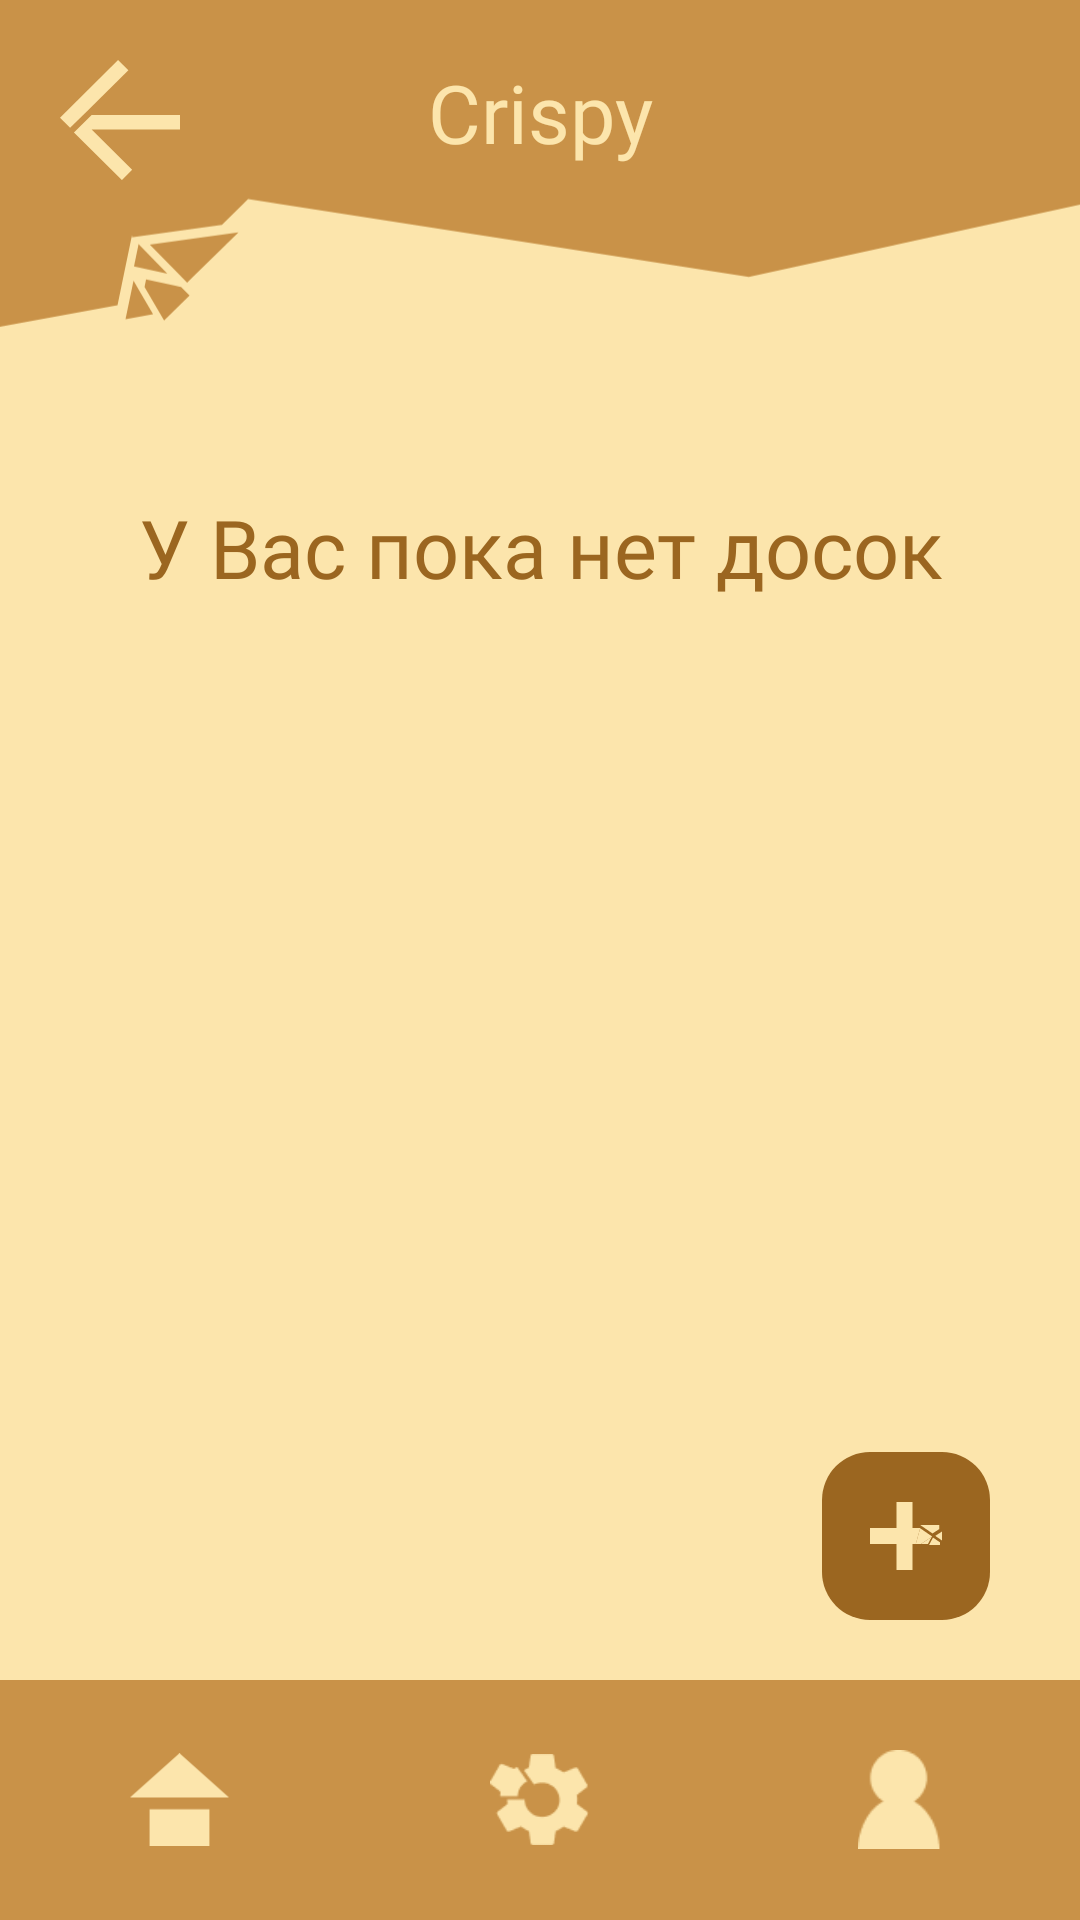

Icon click points for this 1080*1920 phone screenshot, format point (x, y):
Add Workspace: point (906, 1536)
Back: point (120, 120)
